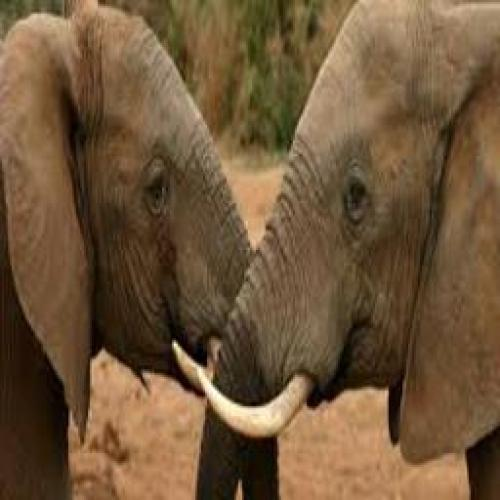african_elephant-endangered: (170, 0, 500, 500), (0, 0, 252, 500)
